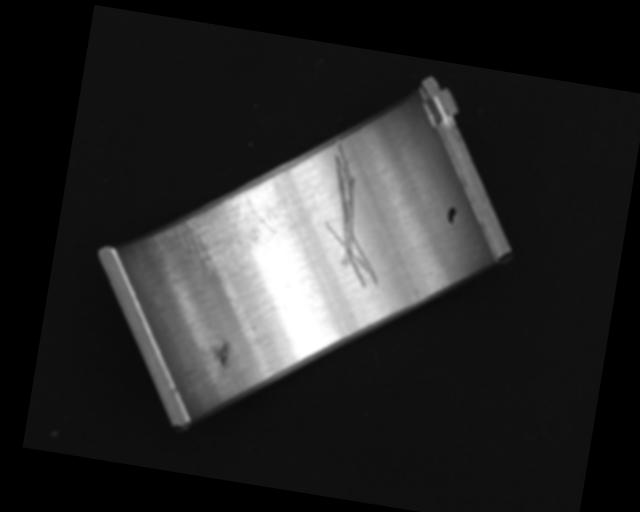blot: (445, 204, 459, 225)
bruise: (210, 337, 233, 368)
nick: (314, 134, 401, 290)
scratch: (151, 177, 290, 288)
